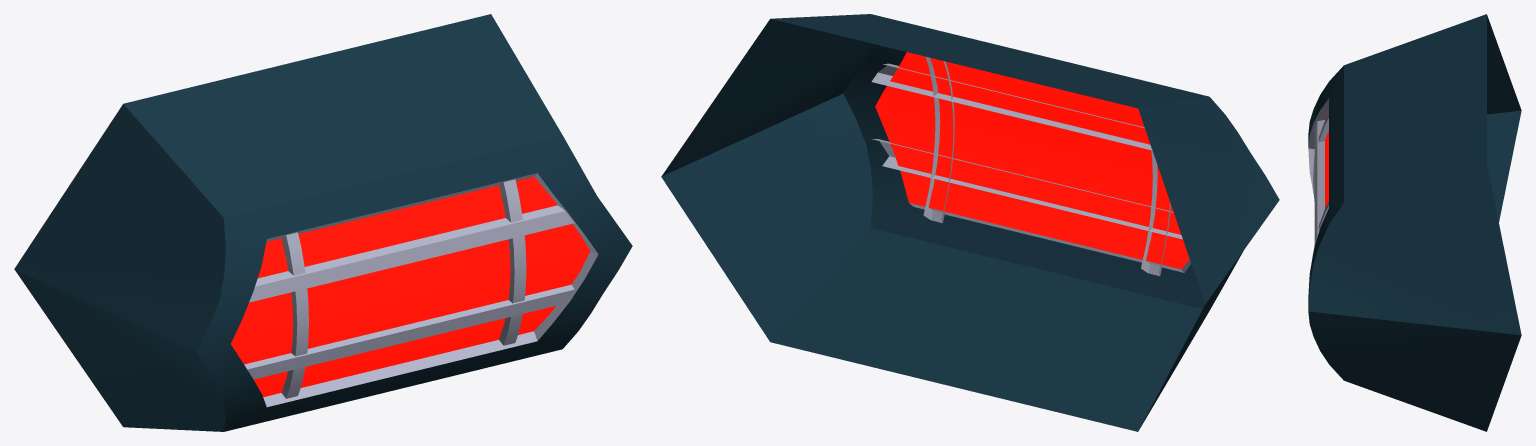
Rendered from Light_Wall_01_Red.glb.
The picture shows the model from 3 angles, left to right: view 1: azimuth 30°, elevation 25°; view 2: azimuth 150°, elevation 25°; view 3: azimuth 270°, elevation 25°; orthographic projection. The views are drawn at different scales.
Parts seen in each view (by area): view 1: Light_Wall_01_Red.001; view 2: Light_Wall_01_Red.001; view 3: Light_Wall_01_Red.001.
Boxes of the visible parts, x1,y1,x2,y2 form: Light_Wall_01_Red.001: (14, 14, 632, 431); Light_Wall_01_Red.001: (661, 14, 1279, 431); Light_Wall_01_Red.001: (1308, 14, 1521, 431).
Size of the model in its own units: 0.4004 by 0.2275 by 0.1636.
